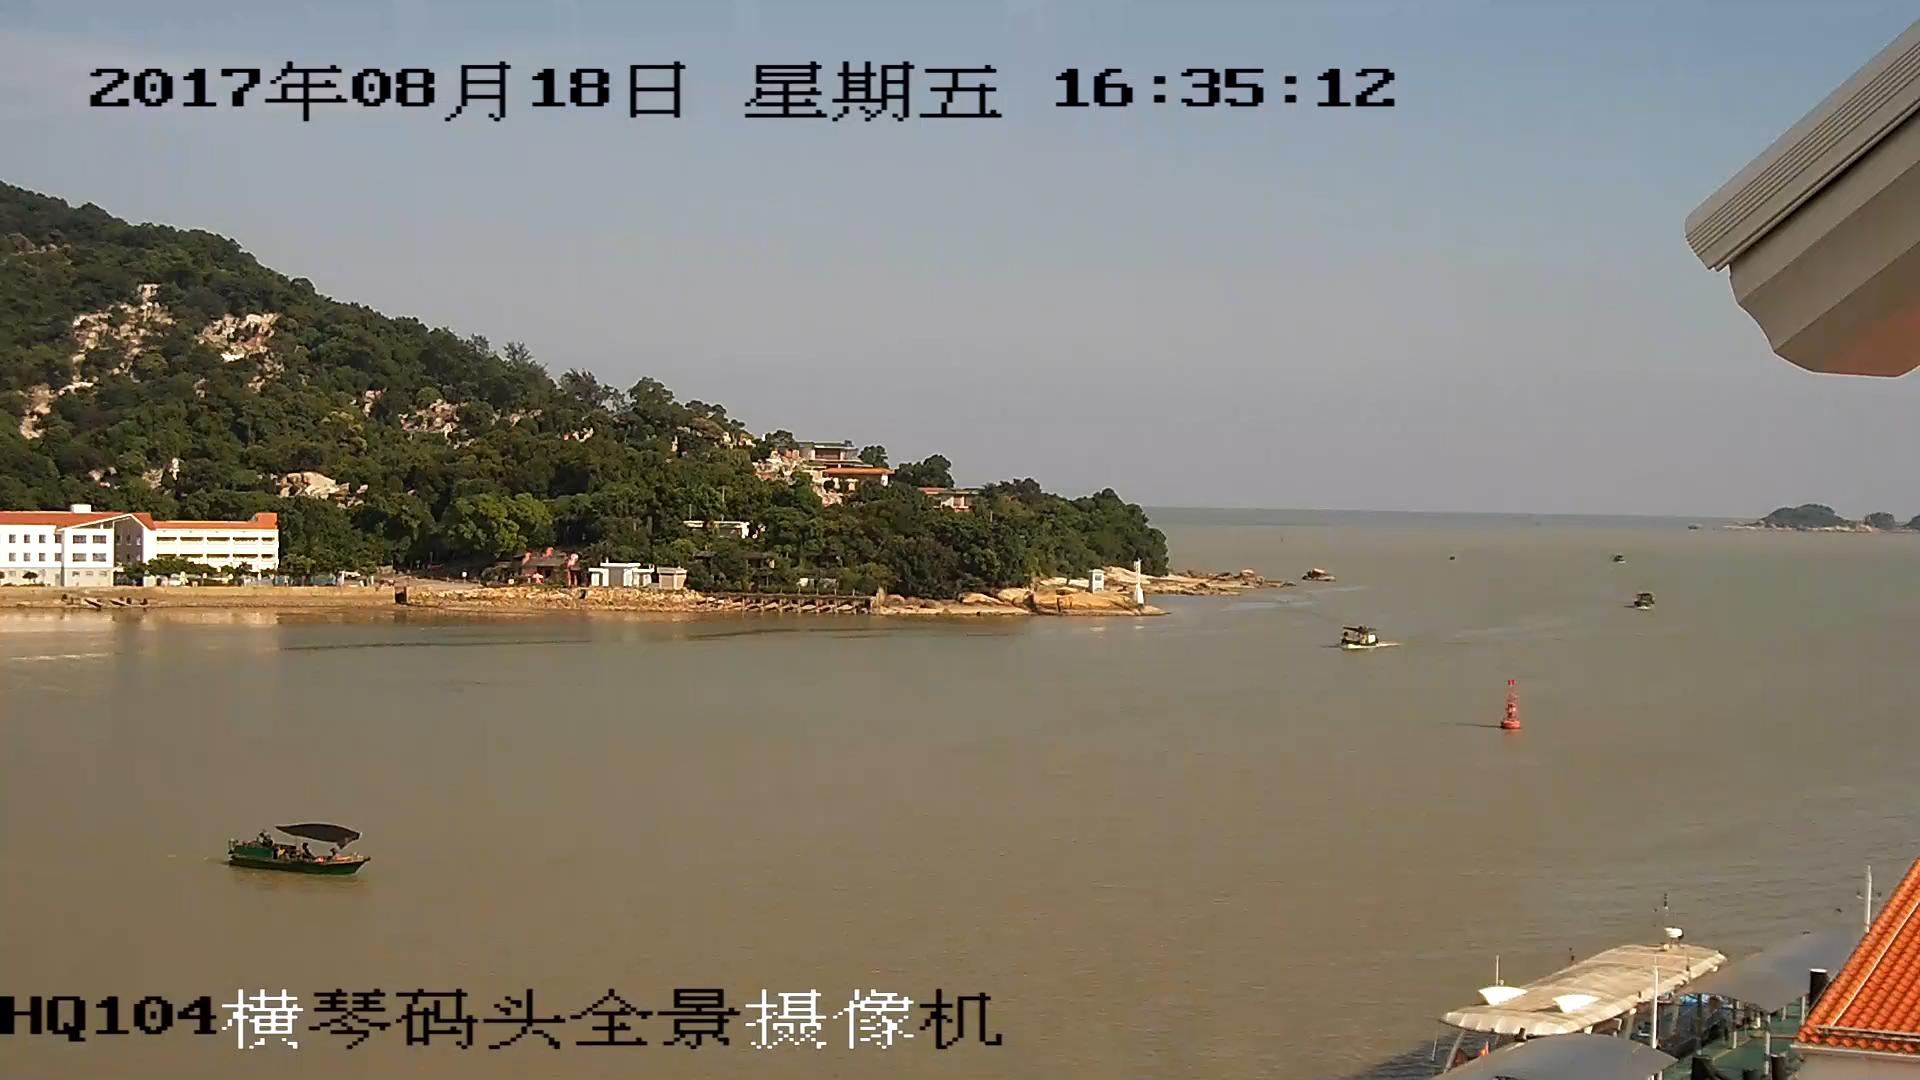fishing boat: (227, 811, 366, 874), (1343, 626, 1384, 652)
